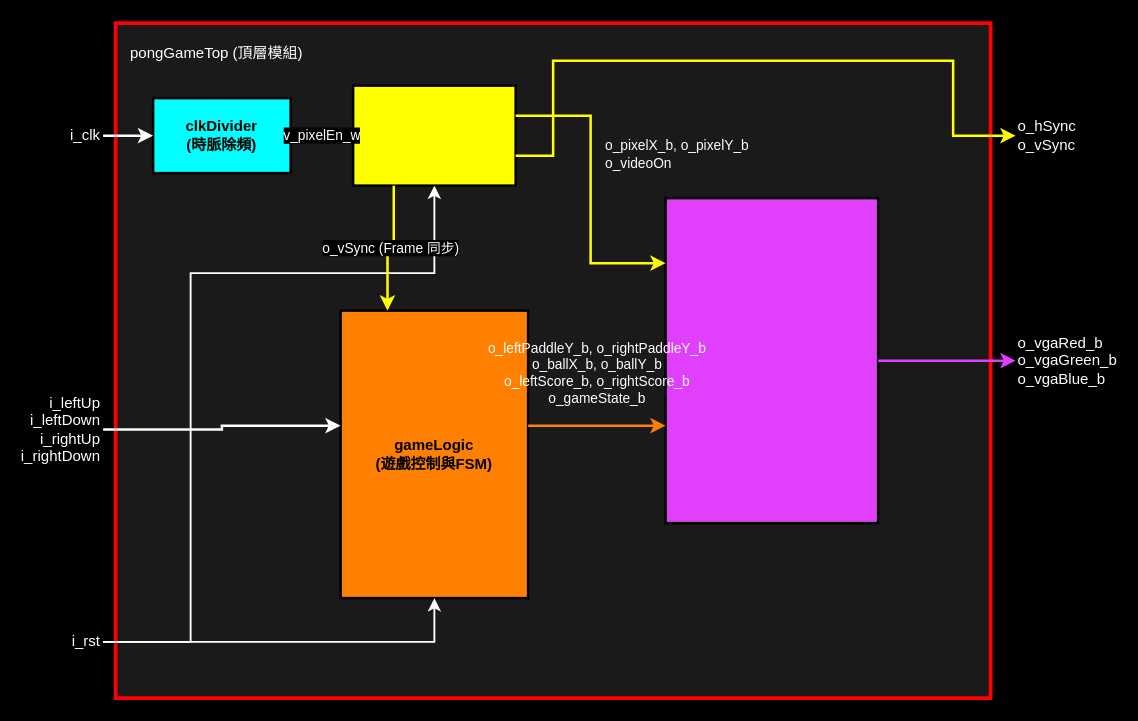
Some shapes in this 1138 by 721 pixel diagram are drawn without their labels. The box of each missing label's shape, as (x1, y1, x2, y2) in pixels:
vgaController (VGA同步訊號): (351, 84, 516, 186)
videoGenerator (畫面像素渲染): (664, 196, 879, 524)
